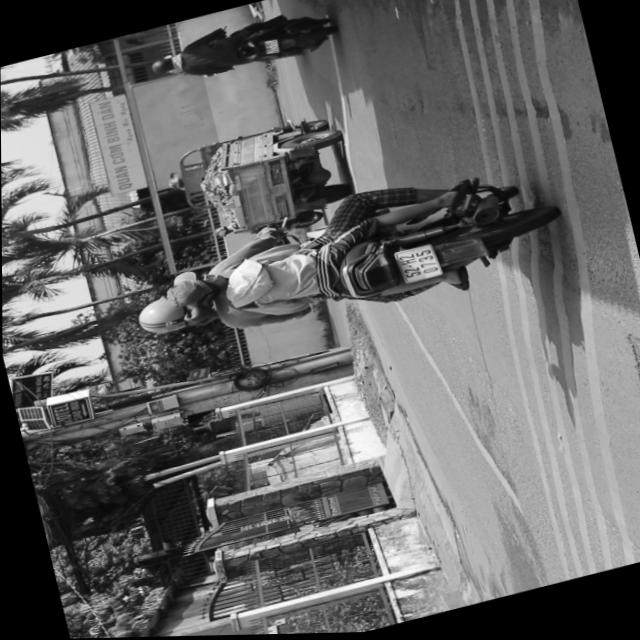helmet: (132, 284, 215, 341), (147, 51, 184, 77)
licenseplate: (113, 149, 562, 375), (143, 1, 338, 95)
motorcyclist: (163, 263, 233, 314)
nohelmet: (394, 244, 440, 285), (263, 38, 280, 54)
